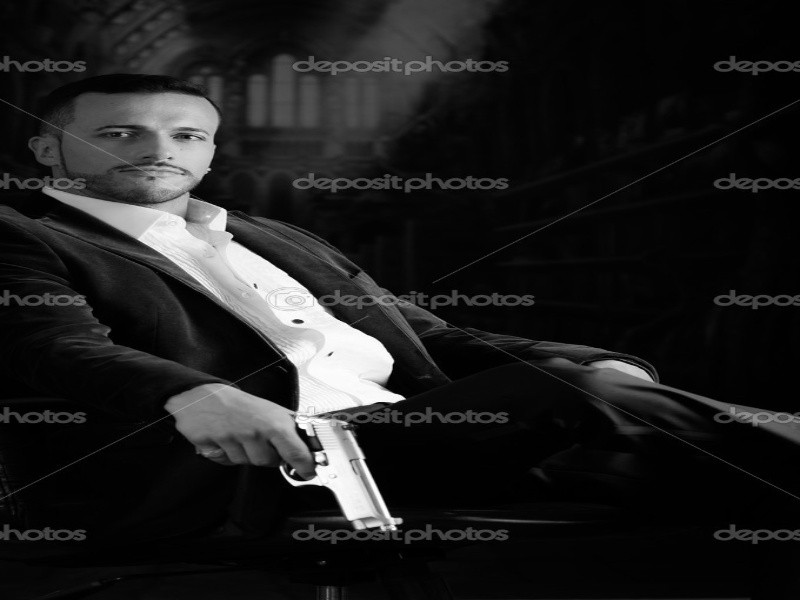gun: (193, 411, 403, 528)
